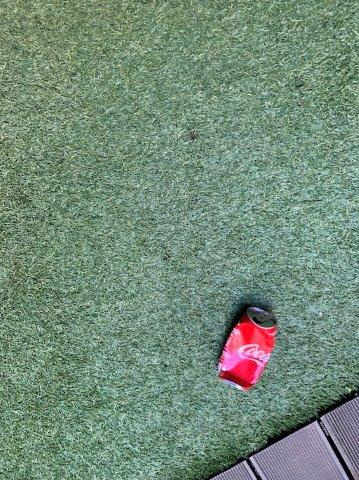kaleng: (218, 308, 276, 389)
